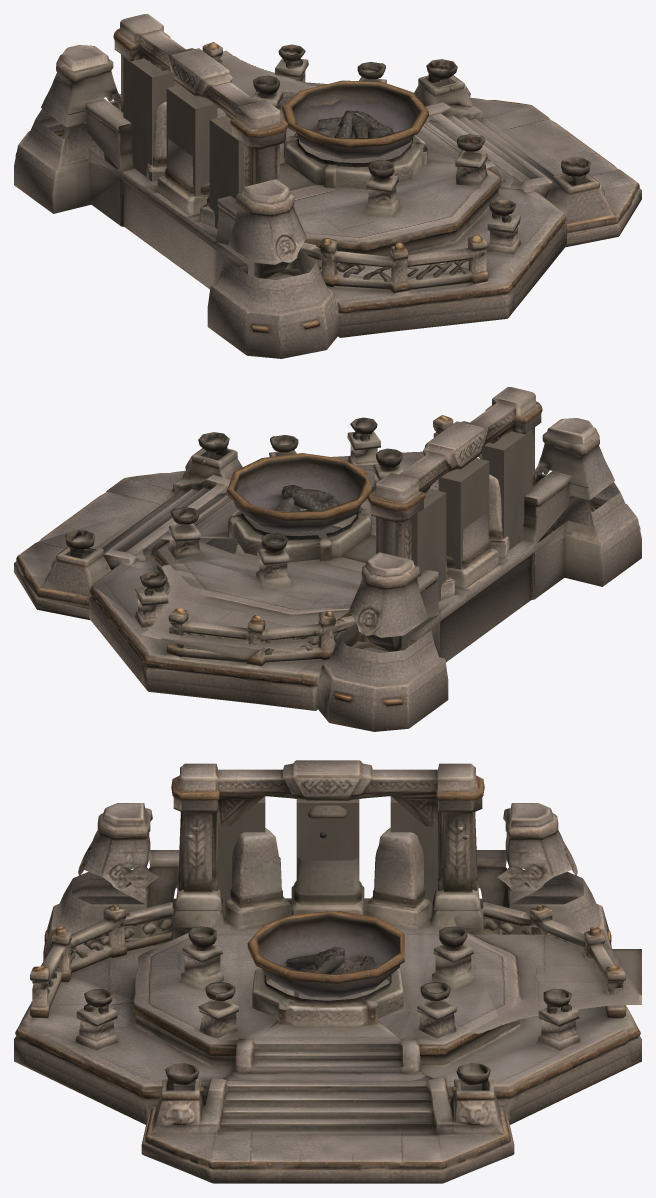
File: ocak-sv35.glb
3 views of the same model, one above another, from view 1: azimuth 30°, elevation 25°; view 2: azimuth 150°, elevation 25°; view 3: azimuth 270°, elevation 25° (orthographic). The views are drawn at different scales.
Parts seen in each view (by area): view 1: tripo_node_4f6bc417-d362-44bc-8a5a-a22de49c7682; view 2: tripo_node_4f6bc417-d362-44bc-8a5a-a22de49c7682; view 3: tripo_node_4f6bc417-d362-44bc-8a5a-a22de49c7682.
Part boxes in pixels (left/top/right/bottom): tripo_node_4f6bc417-d362-44bc-8a5a-a22de49c7682: left=14, top=14, right=641, bottom=358; tripo_node_4f6bc417-d362-44bc-8a5a-a22de49c7682: left=14, top=387, right=641, bottom=731; tripo_node_4f6bc417-d362-44bc-8a5a-a22de49c7682: left=14, top=760, right=641, bottom=1183.
Bounding box in the file's own units: 0.9178 × 0.3699 × 1.
2 materials, 2 textured.
